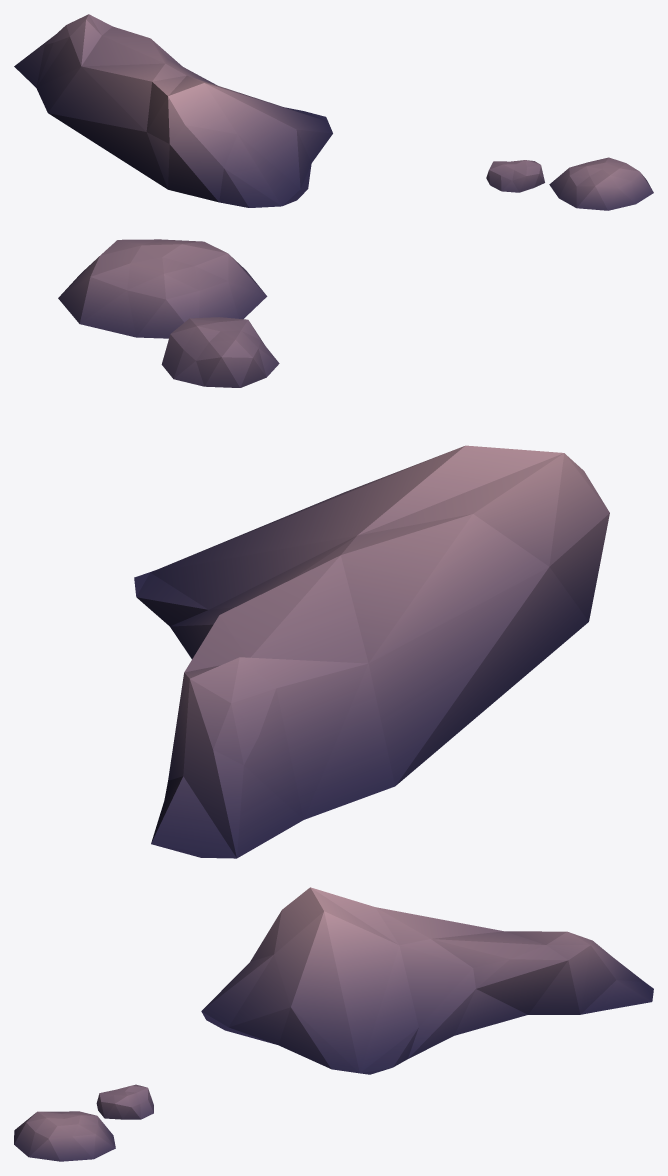
The model's file is props 0 - 03.fbx.
3 views of the same model, one above another, from view 1: azimuth 30°, elevation 25°; view 2: azimuth 150°, elevation 25°; view 3: azimuth 270°, elevation 25° (orthographic). The views are drawn at different scales.
Visible parts, largest first — view 1: 003; view 2: 003; view 3: 003.
Boxes of the visible parts, left/top/right/bottom form: 003: left=14, top=14, right=653, bottom=210; 003: left=58, top=239, right=609, bottom=858; 003: left=14, top=887, right=653, bottom=1161.
Bounding box in the file's own units: 155 × 35.21 × 216.
